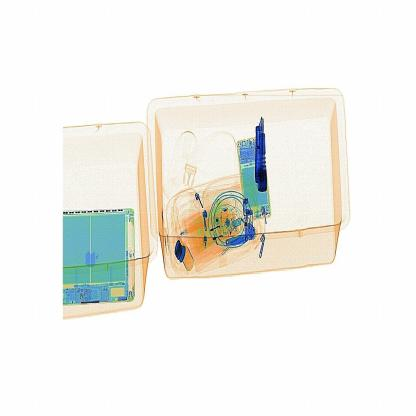pliers: (249, 116, 273, 198)
